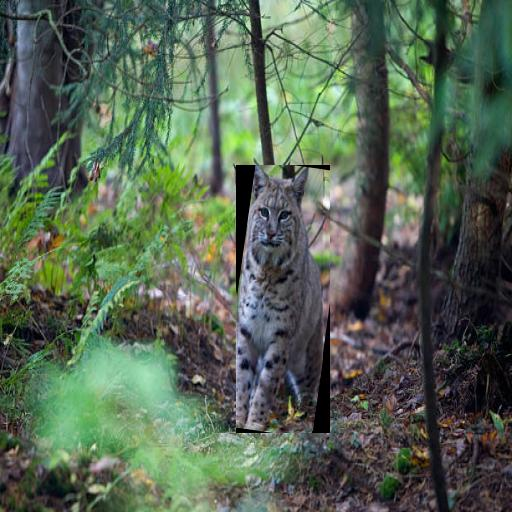lynx: (237, 165, 323, 431)
